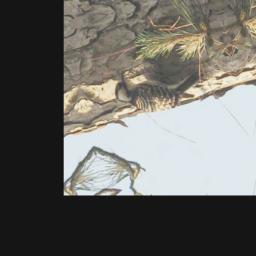Woodpecker: (109, 51, 208, 124)
